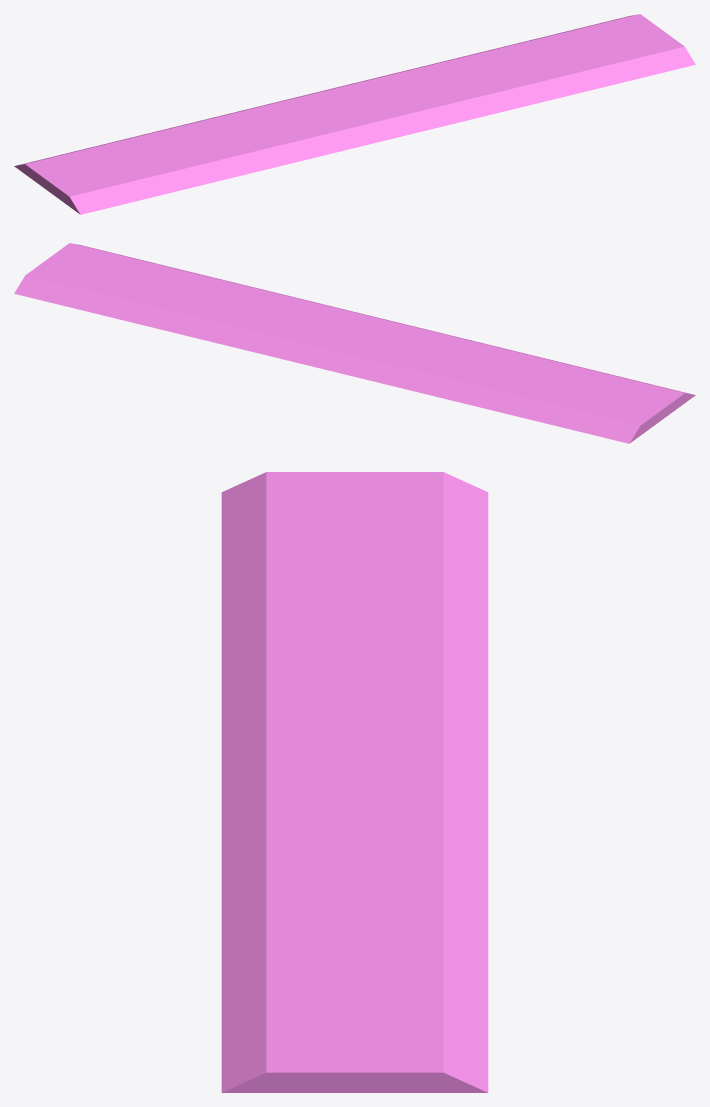
Rendered from slav_deco_04.gltf.
3 views of the same model, one above another, from view 1: azimuth 30°, elevation 25°; view 2: azimuth 150°, elevation 25°; view 3: azimuth 270°, elevation 25° (orthographic). The views are drawn at different scales.
Parts seen in each view (by area): view 1: slav_deco_04; view 2: slav_deco_04; view 3: slav_deco_04.
Part boxes in pixels (x1=…): slav_deco_04: x1=14, y1=14, x2=695, y2=214; slav_deco_04: x1=14, y1=243, x2=695, y2=443; slav_deco_04: x1=221, y1=472, x2=488, y2=1092.
Size of the model in its own units: 2.56 by 0.04 by 0.48.
